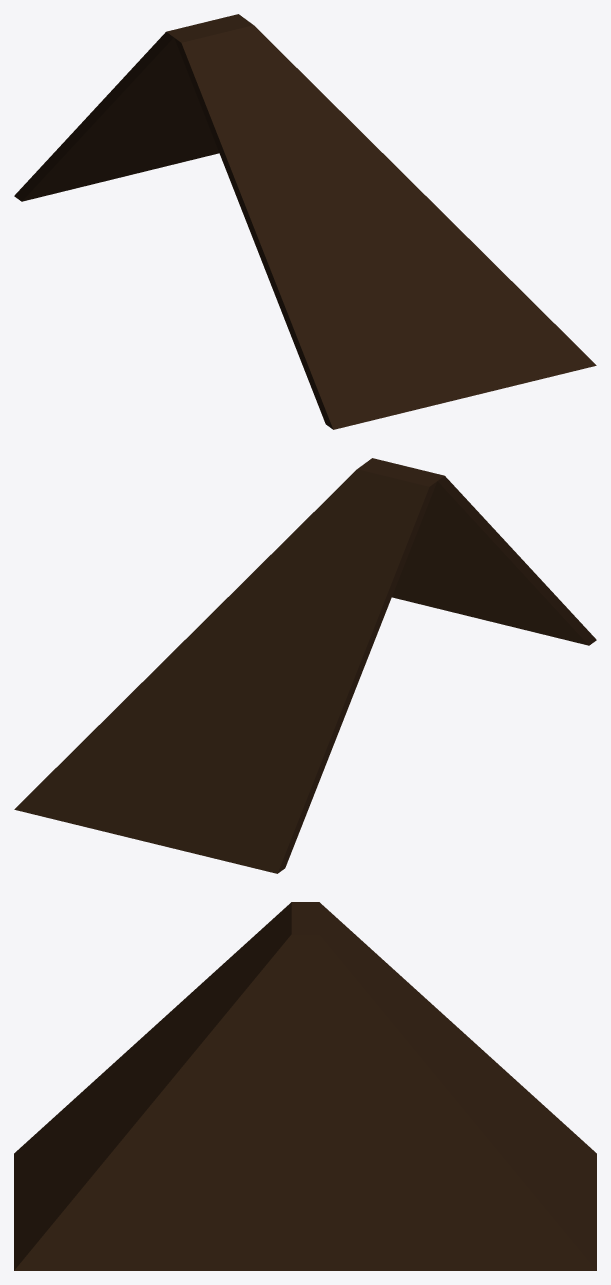
The model's file is RoofEdgeSlanted_DP_0910.fbx.
The picture shows the model from 3 angles, top to bottom: view 1: azimuth 30°, elevation 25°; view 2: azimuth 150°, elevation 25°; view 3: azimuth 270°, elevation 25°; orthographic projection. The views are drawn at different scales.
Visible parts, largest first — view 1: Roof.003; view 2: Roof.003; view 3: Roof.003.
Boxes of the visible parts, left/top/right/bottom form: Roof.003: left=14, top=14, right=596, bottom=429; Roof.003: left=14, top=458, right=596, bottom=873; Roof.003: left=14, top=902, right=596, bottom=1270.
Bounding box in the file's own units: 400 × 400 × 840.
